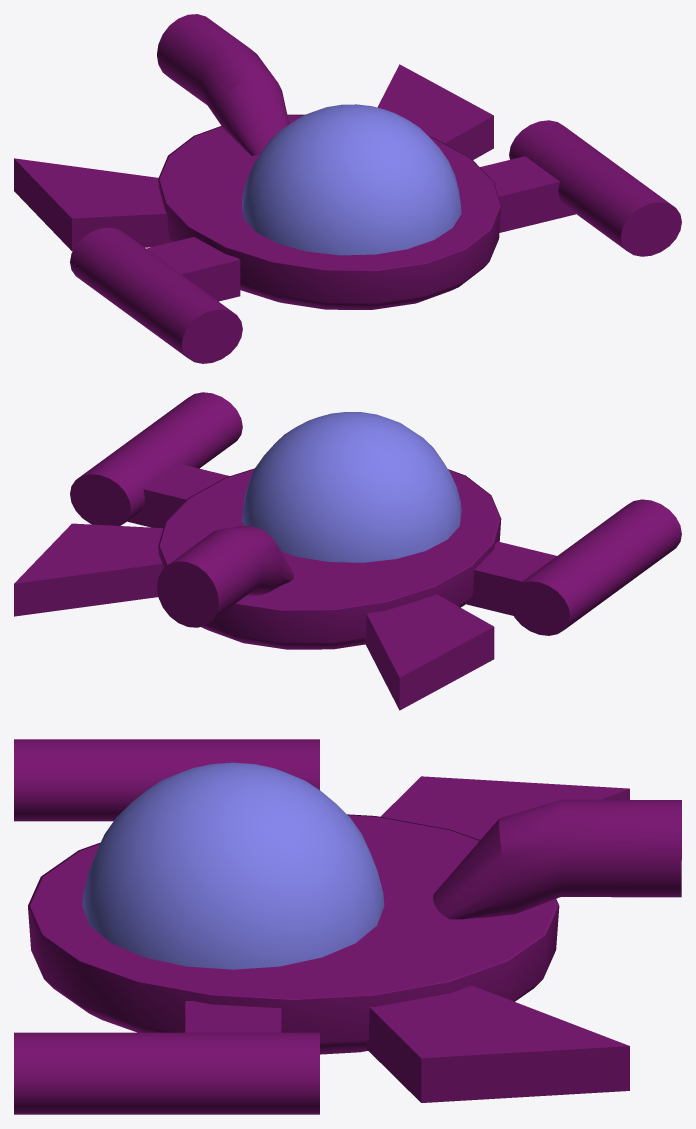
The model's file is Enemy.fbx.
The picture shows the model from 3 angles, top to bottom: view 1: azimuth 30°, elevation 25°; view 2: azimuth 150°, elevation 25°; view 3: azimuth 270°, elevation 25°; orthographic projection. The views are drawn at different scales.
Visible parts, largest first — view 1: pCube5; view 2: pCube5; view 3: pCube5.
Part boxes in pixels (x1=…): pCube5: x1=14, y1=14, x2=681, y2=363; pCube5: x1=14, y1=392, x2=681, y2=710; pCube5: x1=14, y1=739, x2=681, y2=1114.
Size of the model in its own units: 3.54 by 1.14 by 2.99.
